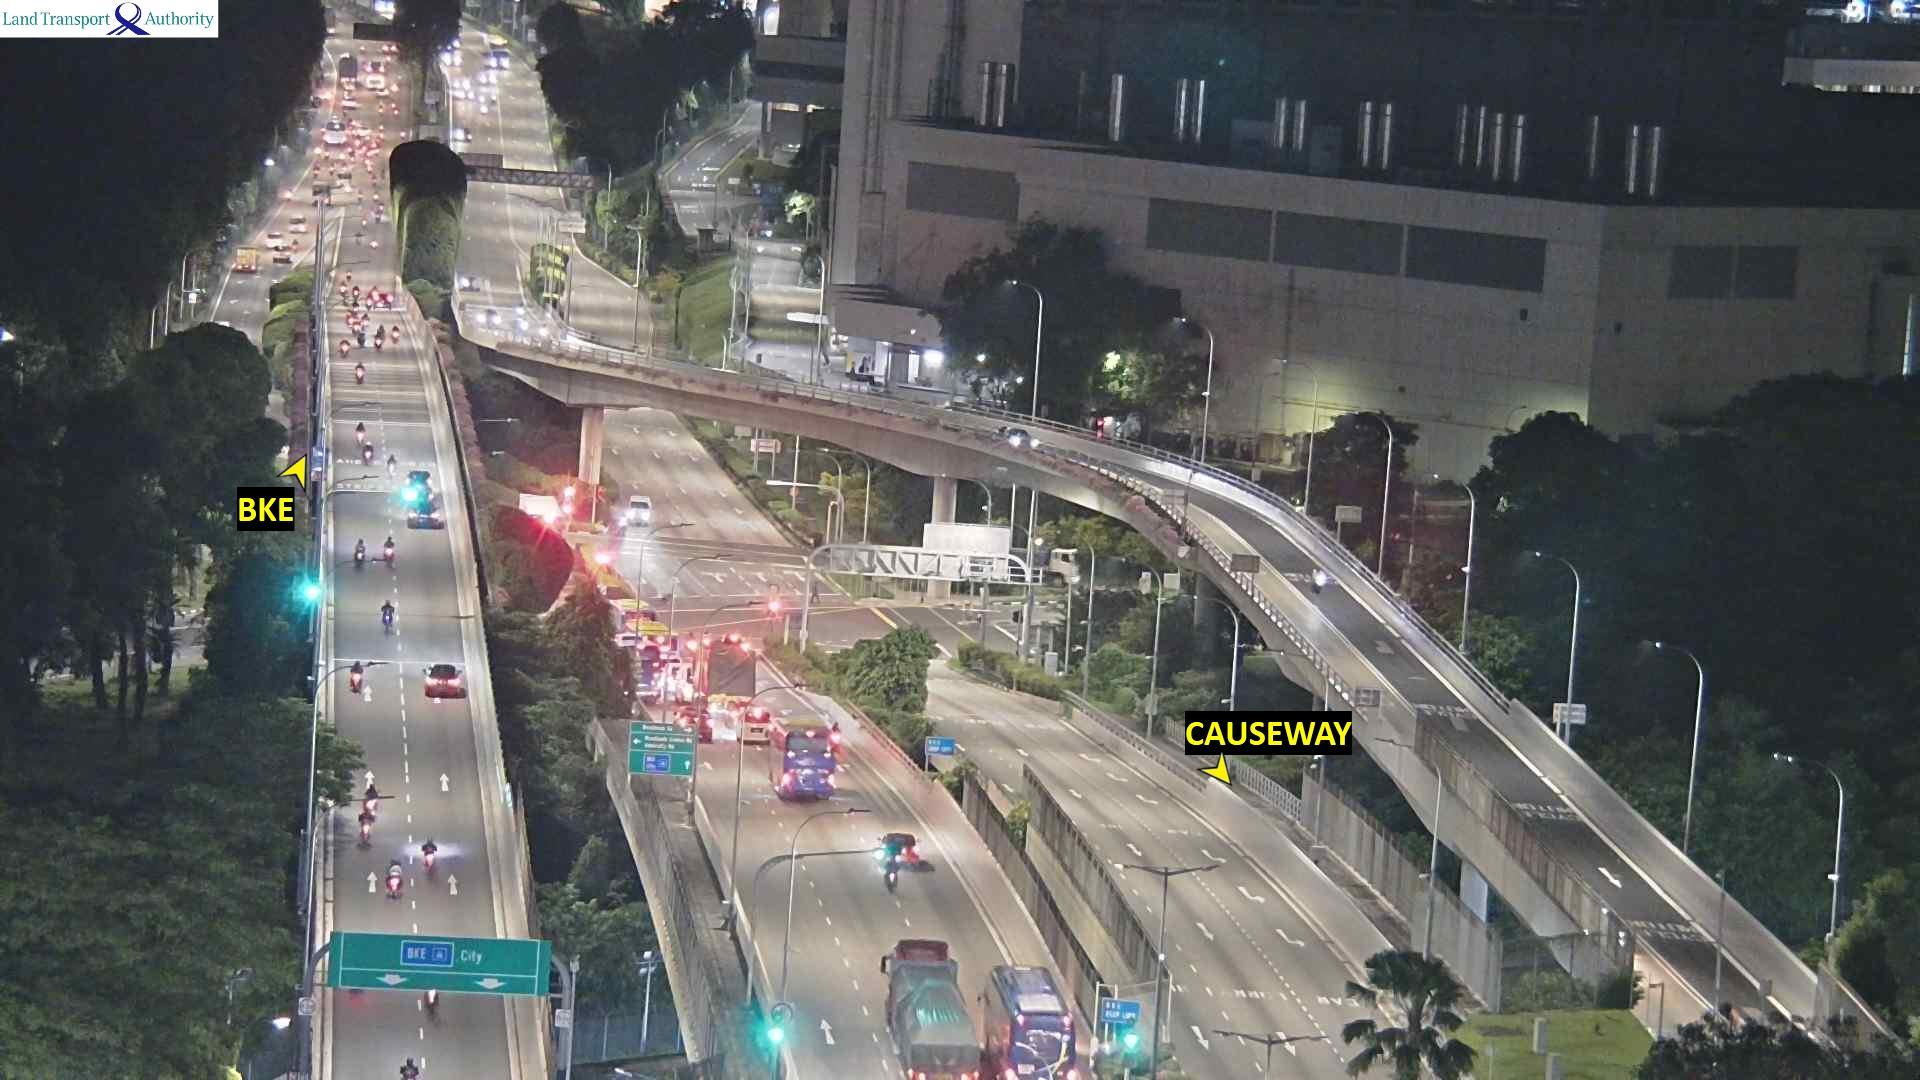vehicle-causeway-johor: (1002, 426, 1032, 449), (1312, 564, 1324, 590), (485, 307, 502, 323), (460, 276, 473, 295)
vehicle-causeway-singapore: (886, 943, 977, 1080), (990, 967, 1071, 1080), (776, 729, 849, 803), (778, 765, 847, 803), (872, 833, 925, 871), (736, 718, 781, 744), (426, 665, 461, 695), (424, 683, 466, 703), (411, 516, 444, 532), (387, 861, 402, 893), (404, 1059, 424, 1079), (351, 662, 365, 689), (382, 600, 394, 631), (426, 836, 435, 872), (424, 993, 438, 1014), (362, 546, 378, 564), (357, 809, 370, 831), (359, 828, 370, 851), (368, 786, 377, 812), (362, 362, 374, 380), (357, 420, 365, 447), (388, 453, 396, 477), (393, 321, 403, 340), (361, 446, 371, 464), (377, 325, 385, 347), (387, 537, 394, 559), (340, 339, 348, 356), (359, 331, 364, 345)
